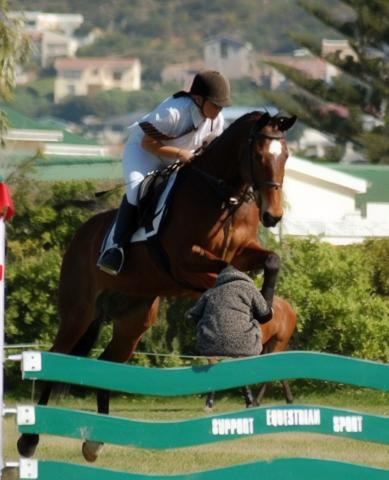cat: (195, 269, 267, 355)
horse: (17, 69, 302, 466), (204, 288, 298, 410)
person: (94, 70, 236, 278)
